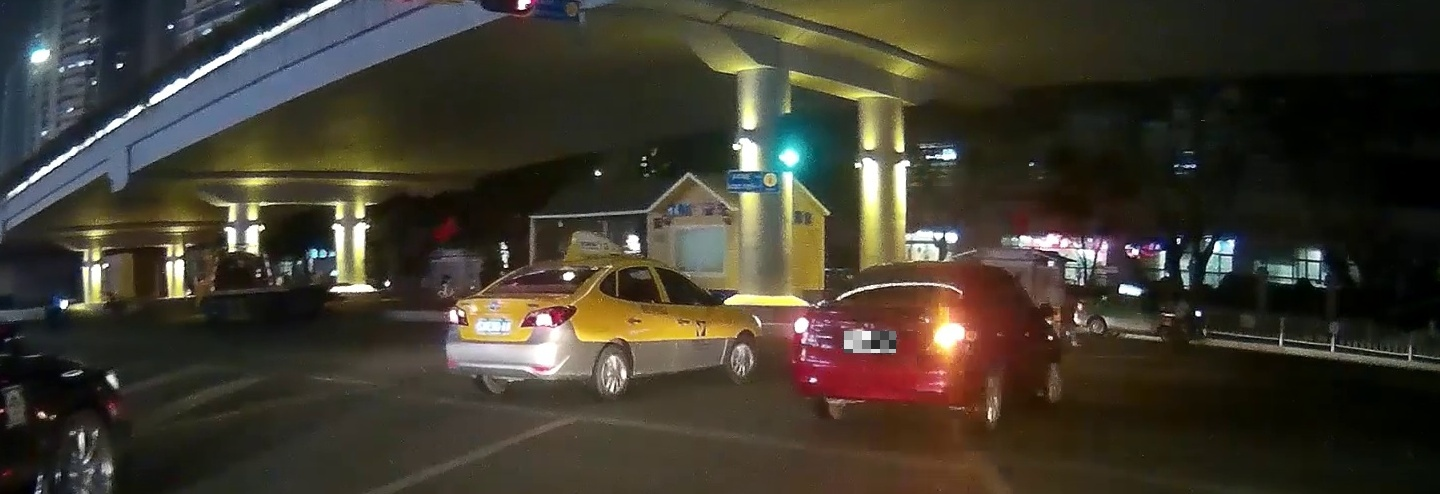L_light: (791, 317, 819, 348), (448, 305, 469, 326)
R_light: (519, 305, 578, 328), (933, 322, 965, 351), (514, 290, 538, 293)
T_light: (898, 269, 924, 273)
night-no: (446, 258, 611, 400)
night-right: (789, 261, 975, 432)
plate_1: (844, 331, 896, 353)
